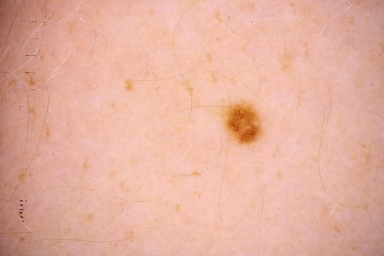melanoma: (224, 104, 262, 146)
